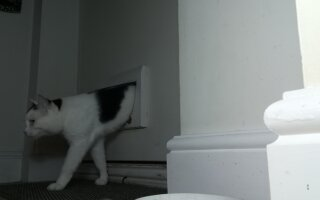bad: (21, 73, 146, 190)
